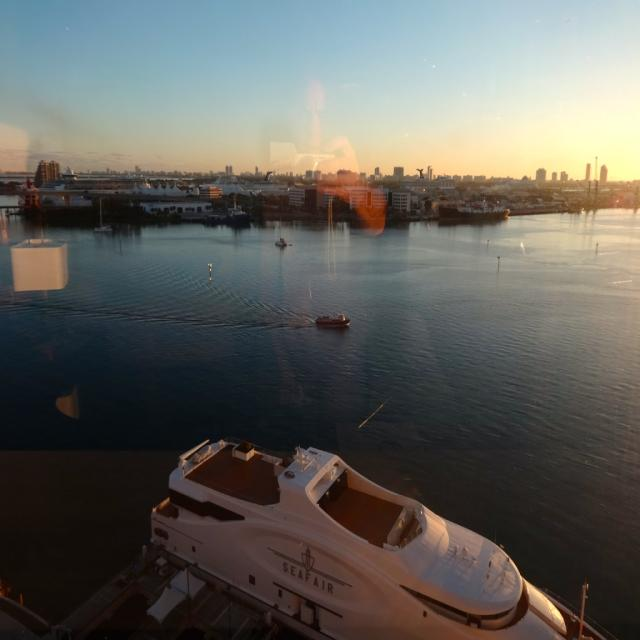Boat: (135, 442, 592, 615)
